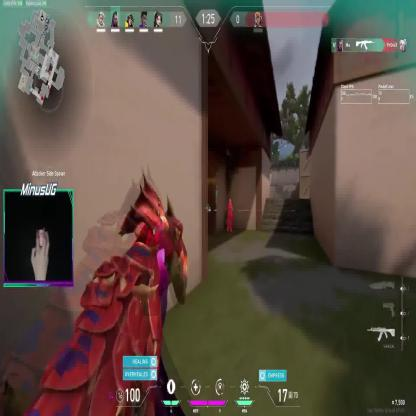enemy: (226, 198, 234, 233)
enemy_head: (228, 198, 232, 204)
